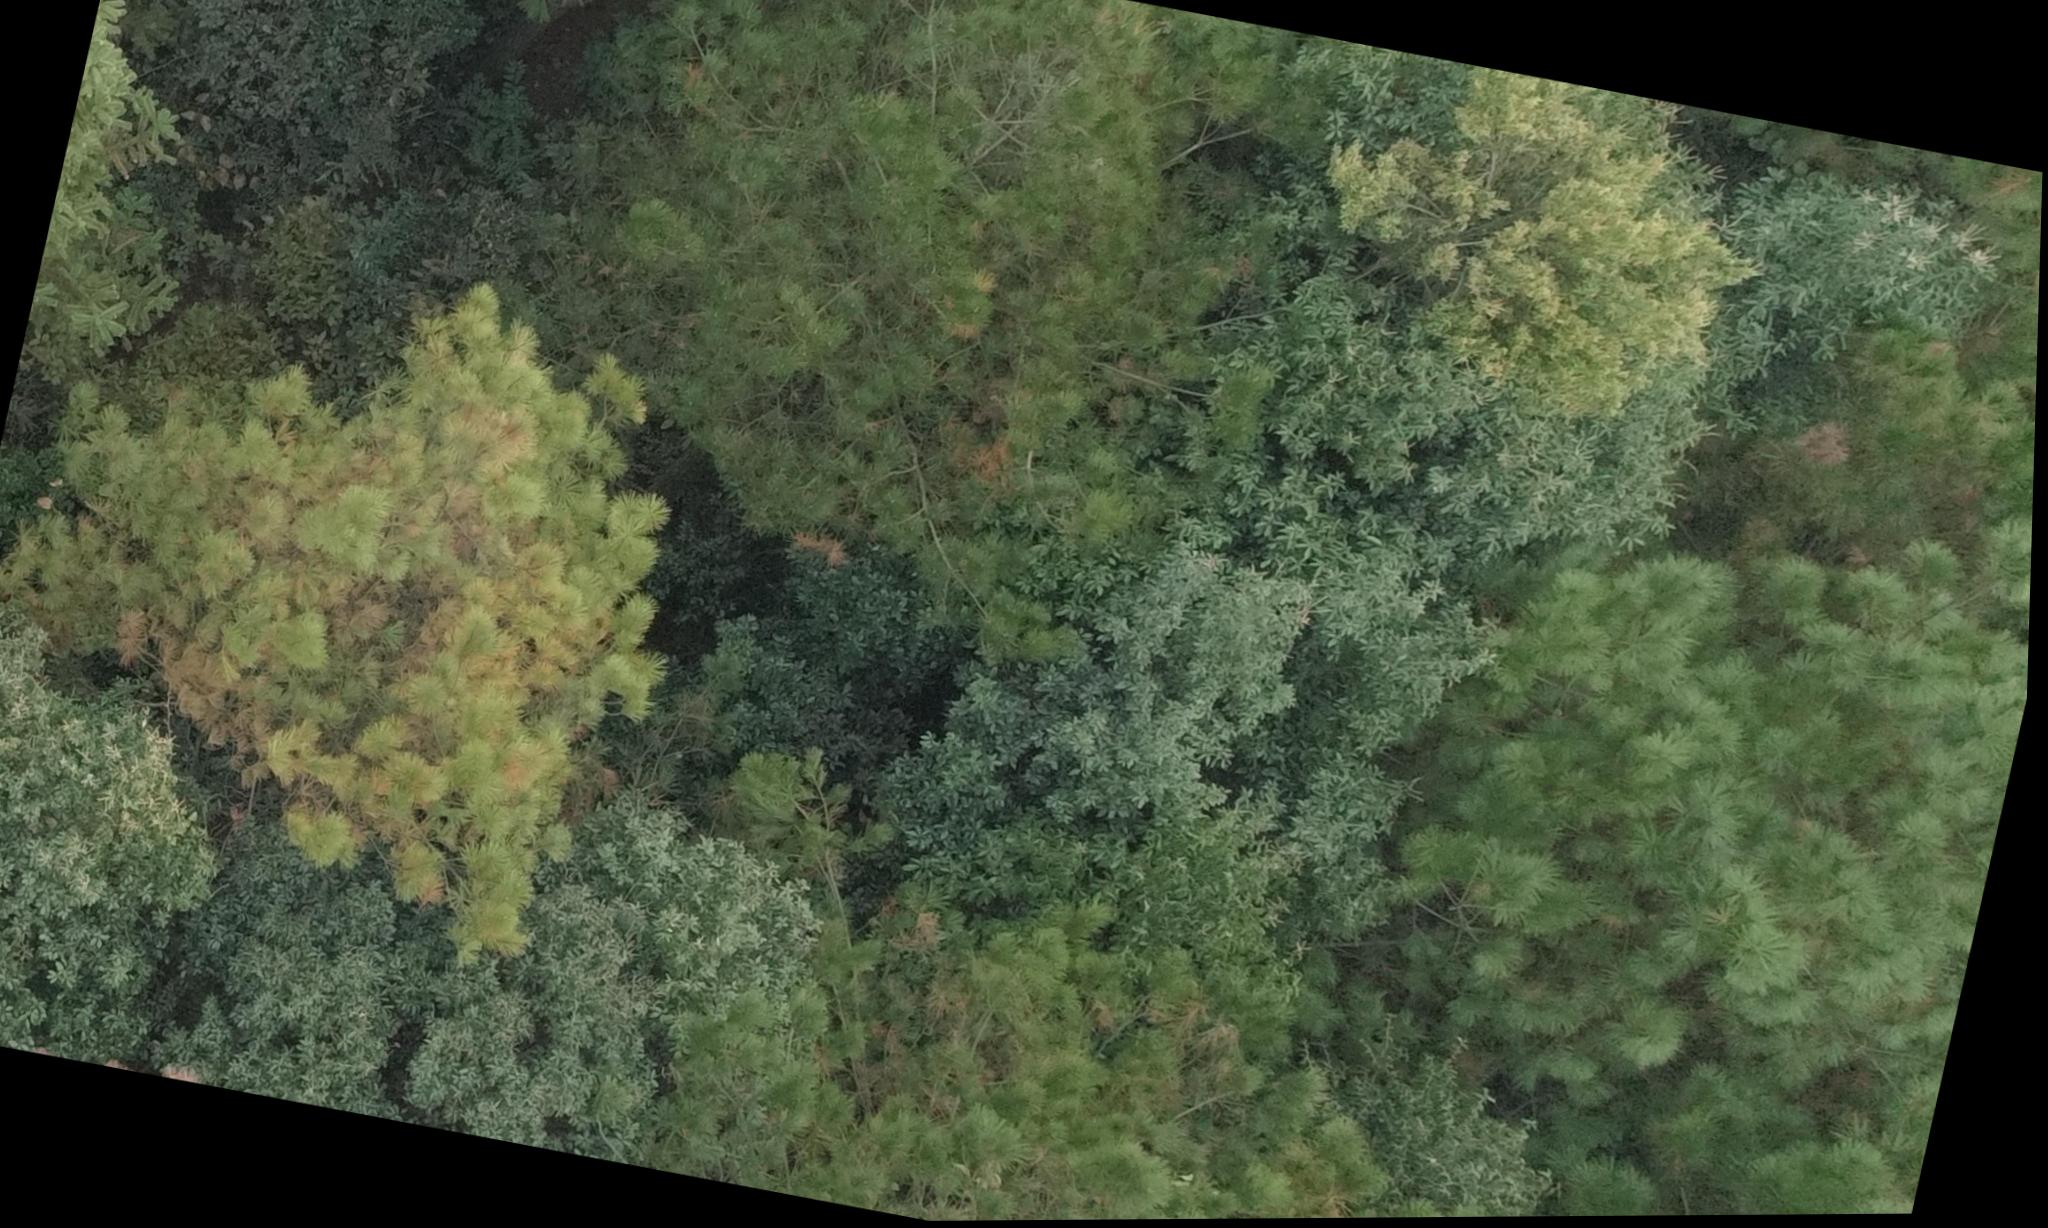light: (44, 317, 678, 971)
